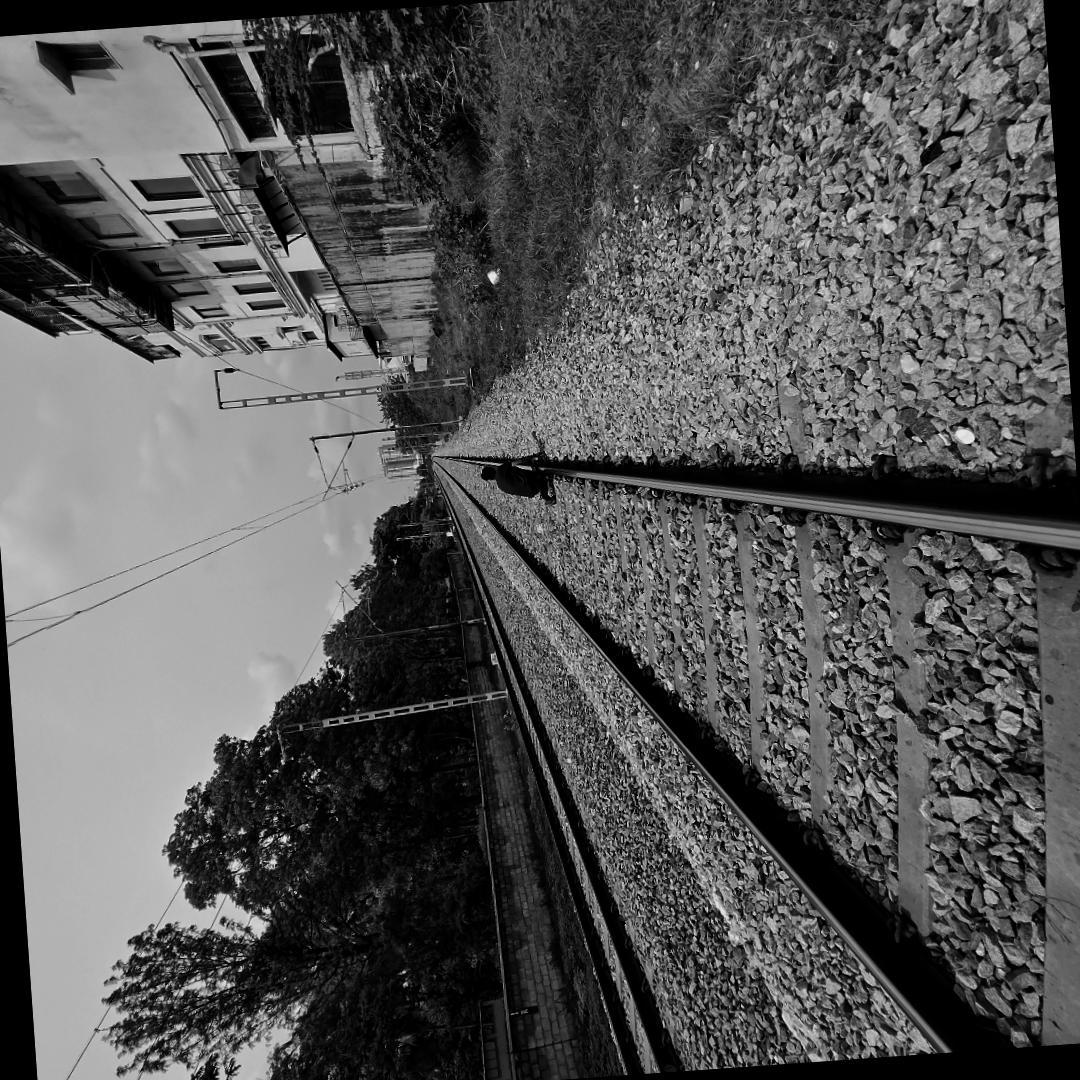track: (424, 352, 1080, 1063), (464, 425, 567, 513)
